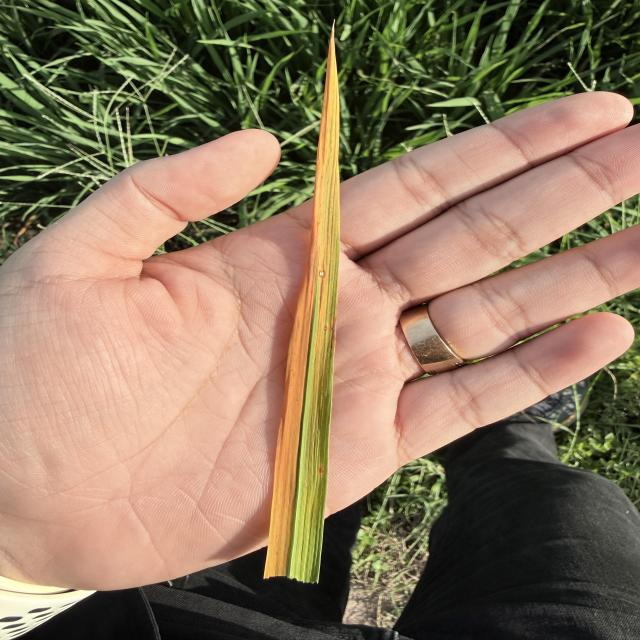Chay bia la: (263, 21, 340, 578)
